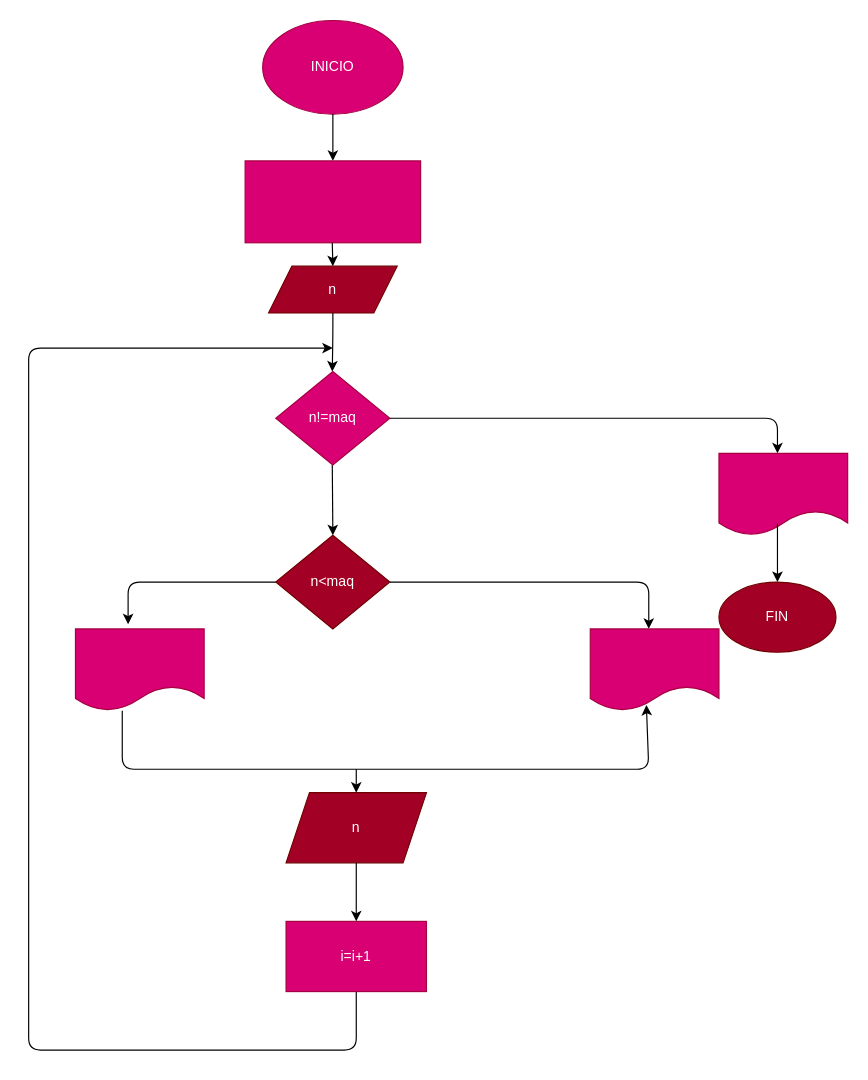
Image size: 868x1080. Some labels were removed from this diagram. The shapes that lost their labels are listed below. From the top down, each one's centre as x and y in pixels, then its label:
At pixel 332 201: "maq=random.randint(1,100)".
At pixel 783 493: "Adivinaste".
At pixel 139 669: "Digite un numero menor".
At pixel 654 669: "Digite un numero mayor".
